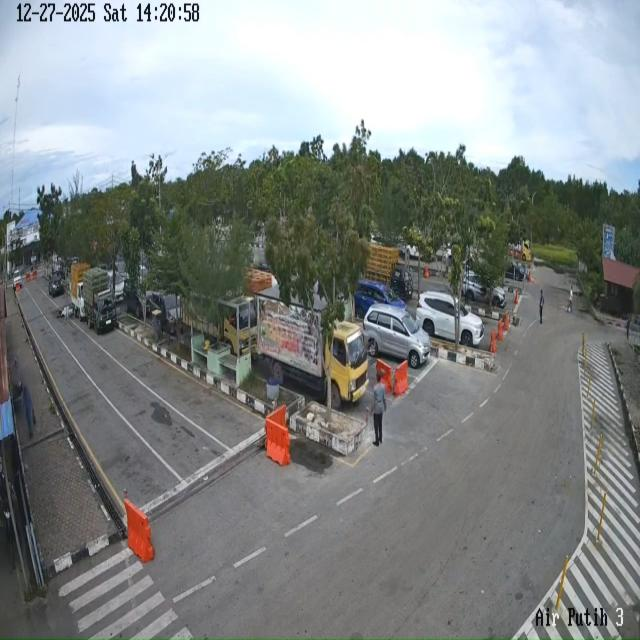Golongan IVA: (363, 304, 430, 369), (416, 291, 484, 347), (354, 279, 406, 320), (462, 270, 506, 308), (123, 280, 149, 320), (48, 271, 64, 297), (505, 261, 525, 281)
Golongan IVB: (83, 267, 117, 333), (69, 262, 90, 321)
Golongan VB: (256, 285, 368, 408)
